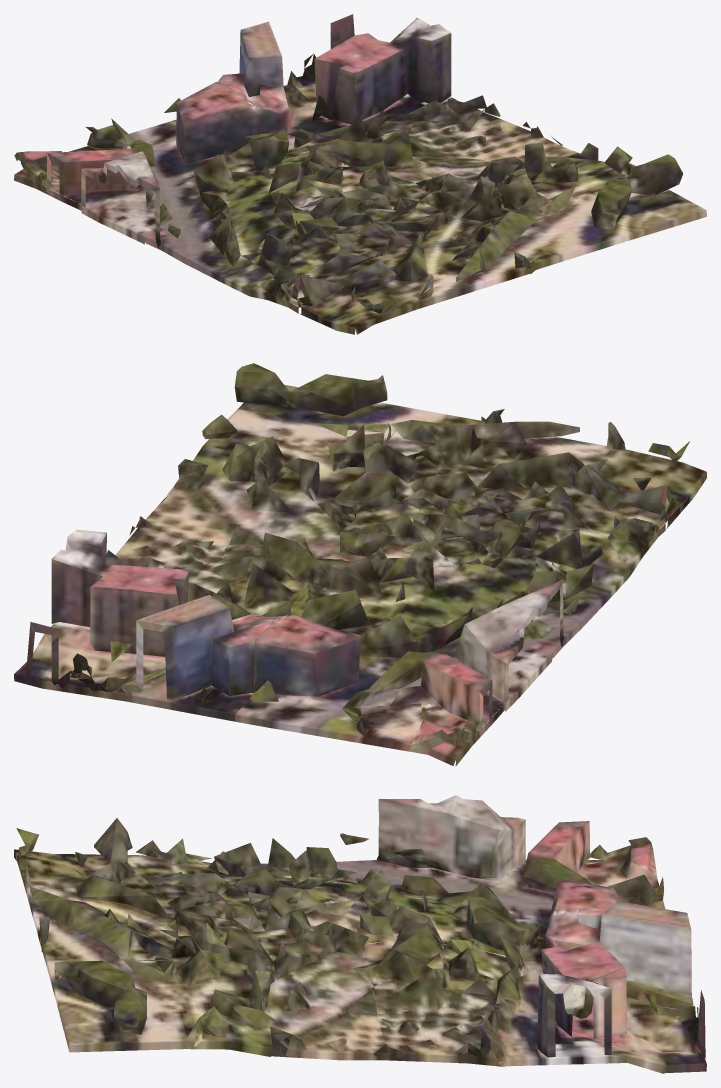
3 renders of one model, top to bottom at view 1: azimuth 30°, elevation 25°; view 2: azimuth 150°, elevation 25°; view 3: azimuth 270°, elevation 25°, orthographic. The views are drawn at different scales.
Visible parts, largest first — view 1: Mesh_0; view 2: Mesh_0; view 3: Mesh_0.
Part boxes in pixels (box(x1,y1,x2,y2)): Mesh_0: box(14, 14, 706, 334); Mesh_0: box(14, 363, 706, 766); Mesh_0: box(14, 795, 706, 1073).
Size of the model in its own units: 266 by 53.15 by 330.
2 materials, 2 textured.
